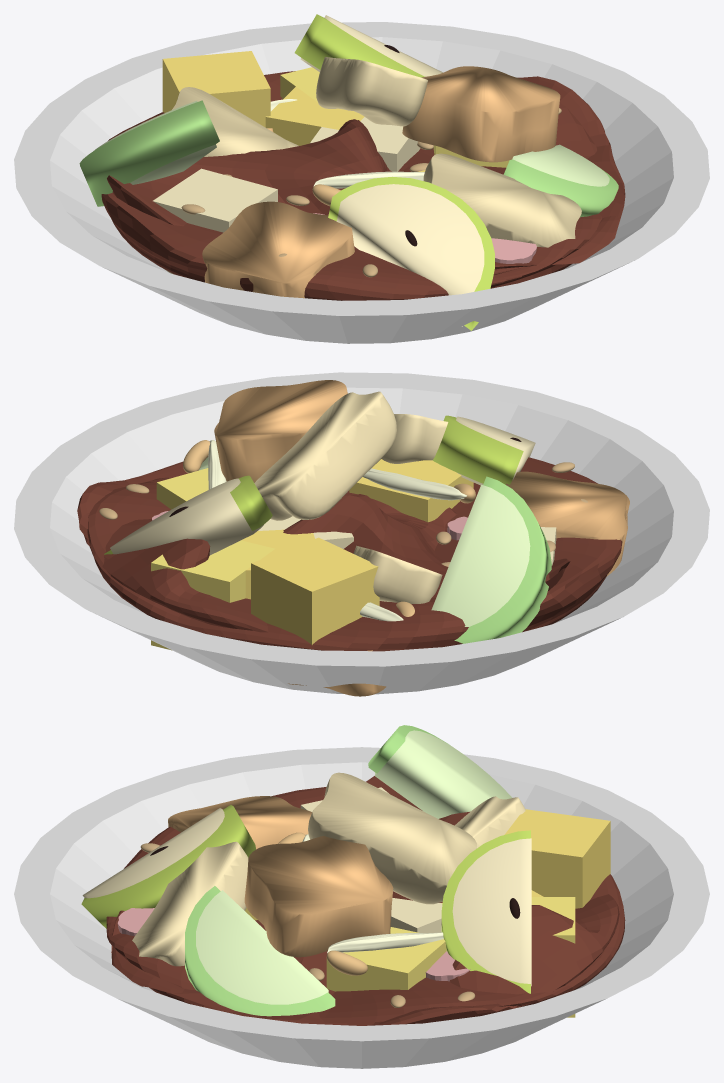
File: rojakEat.fbx
3 views of the same model, one above another, from view 1: azimuth 30°, elevation 25°; view 2: azimuth 150°, elevation 25°; view 3: azimuth 270°, elevation 25° (orthographic).
Visible parts, largest first — view 1: Cylinder, Sphere.029, Sphere.023, Cylinder.031, Sphere.022, Sphere.028, Cylinder.028, Sphere.026, Cube.027, Cube.007, Sphere.027, Cube.006 (+11 smaller); view 2: Cylinder, Sphere.029, Sphere.026, Cube.027, Cylinder.029, Sphere.023, Sphere.022, Cylinder.022, Cylinder.028, Cylinder.030, Cube.005, Cube.010 (+12 smaller); view 3: Cylinder, Sphere.029, Sphere.023, Sphere.026, Cylinder.022, Cylinder.025, Cube.027, Cylinder.029, Sphere.028, Cube.008, Cylinder.030, Sphere.022 (+12 smaller).
Part boxes in pixels (x1=…): Cylinder: x1=14, y1=22, x2=709, y2=343; Sphere.029: x1=101, y1=71, x2=625, y2=300; Sphere.023: x1=402, y1=66, x2=560, y2=162; Cylinder.031: x1=336, y1=184, x2=484, y2=326; Sphere.022: x1=202, y1=201, x2=354, y2=298; Sphere.028: x1=423, y1=153, x2=581, y2=247; Cylinder.028: x1=79, y1=100, x2=219, y2=206; Sphere.026: x1=316, y1=57, x2=427, y2=126; Cube.027: x1=162, y1=51, x2=270, y2=127; Cube.007: x1=153, y1=168, x2=277, y2=274; Sphere.027: x1=172, y1=87, x2=298, y2=156; Cube.006: x1=265, y1=87, x2=364, y2=145; Cylinder: x1=14, y1=372, x2=709, y2=694; Sphere.029: x1=77, y1=456, x2=622, y2=651; Sphere.026: x1=254, y1=391, x2=396, y2=520; Cube.027: x1=251, y1=537, x2=379, y2=644; Cylinder.029: x1=431, y1=484, x2=530, y2=626; Sphere.023: x1=214, y1=380, x2=347, y2=482; Sphere.022: x1=506, y1=471, x2=629, y2=576; Cylinder.022: x1=110, y1=478, x2=263, y2=555; Cylinder.028: x1=454, y1=476, x2=551, y2=643; Cylinder.030: x1=433, y1=415, x2=523, y2=484; Cube.005: x1=349, y1=459, x2=473, y2=522; Cube.010: x1=151, y1=540, x2=274, y2=650; Cylinder: x1=14, y1=747, x2=709, y2=1068; Sphere.029: x1=106, y1=776, x2=625, y2=1025; Sphere.023: x1=244, y1=836, x2=393, y2=957; Sphere.026: x1=308, y1=772, x2=476, y2=904; Cylinder.022: x1=452, y1=838, x2=531, y2=986; Cylinder.025: x1=196, y1=890, x2=328, y2=1004; Cube.027: x1=504, y1=809, x2=610, y2=908; Cylinder.029: x1=375, y1=730, x2=512, y2=818; Sphere.028: x1=132, y1=841, x2=248, y2=966; Cube.008: x1=326, y1=927, x2=446, y2=991; Cylinder.030: x1=81, y1=805, x2=255, y2=928; Sphere.022: x1=168, y1=796, x2=312, y2=849.
Size of the model in its own units: 190 by 60.62 by 190.
